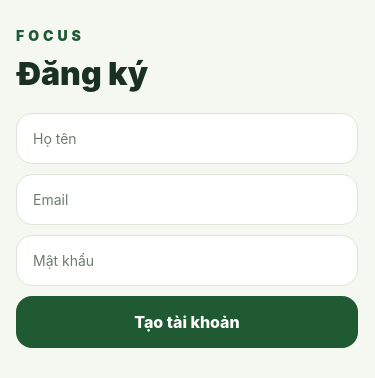
Test: RegisterScreen › shows a 409 message when the email already exists
In the field with test id "register-displayName": (187,138) [16,112,358,164], type "Người dùng"
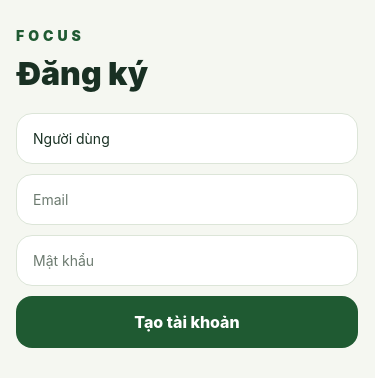
In the field with test id "register-email": (187,199) [16,174,358,224], type "user@example.com"
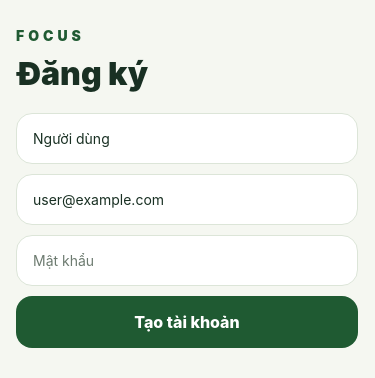
In the password field with test id "register-password": (187,260) [16,234,358,286], type "password12345"
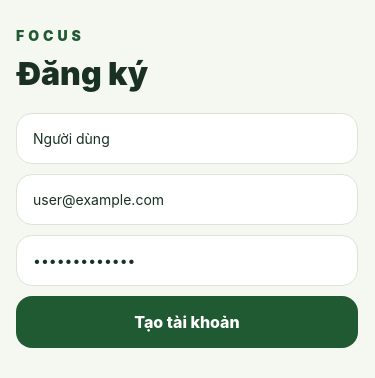
Click the element with test id "register-submit": (187,322) [16,296,358,348]
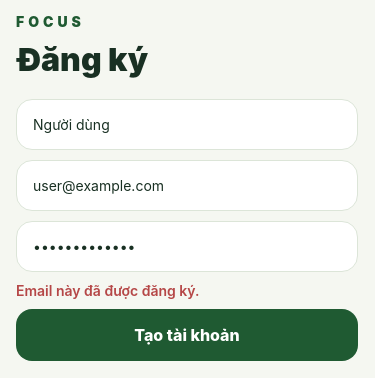
Now the text "Email này đã được đăng ký." is shown, box [16,282,200,299]
